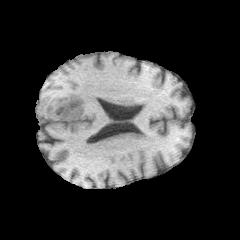glioma: (38, 93, 86, 121)
